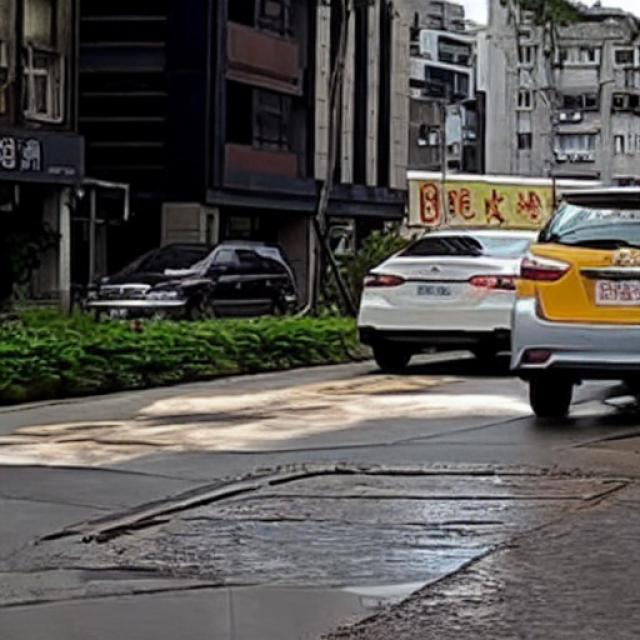puddle: (99, 465, 630, 583)
